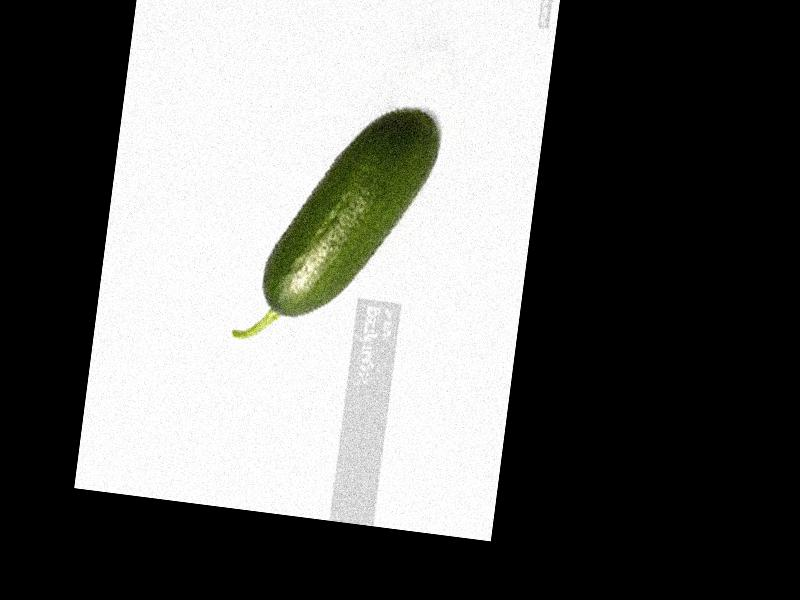Cucumber: (233, 92, 444, 365)
